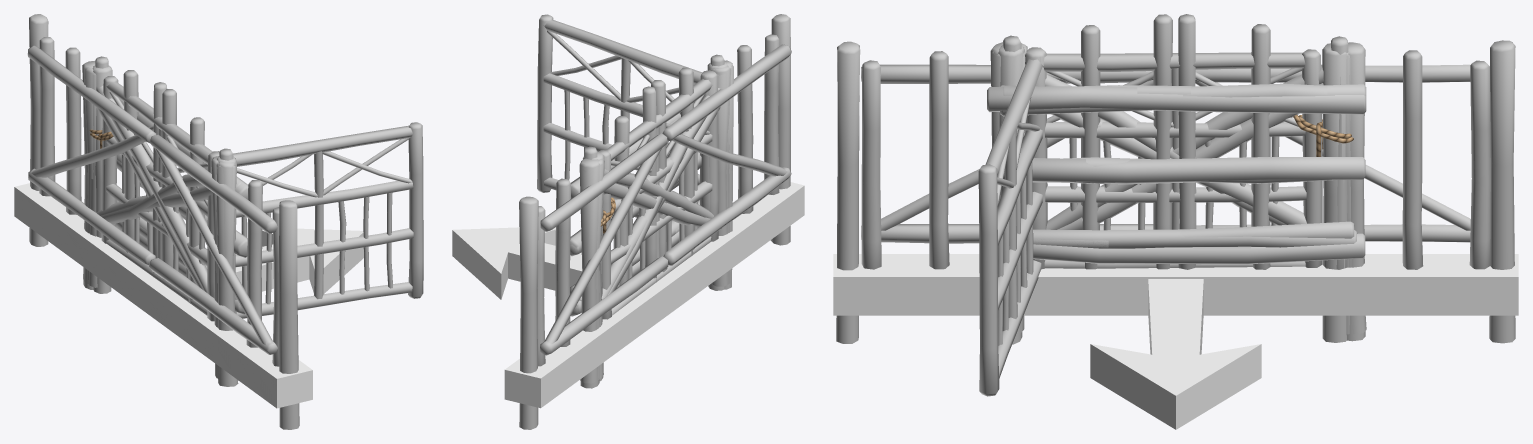
Rendered from fences.fbx.
3 views of the same model, side by side, from view 1: azimuth 30°, elevation 25°; view 2: azimuth 150°, elevation 25°; view 3: azimuth 270°, elevation 25° (orthographic). The views are drawn at different scales.
Visible parts, largest first — view 1: Right, Left, Trigger2, fence.001, posts.008, fence, LOD_012.6, Gate, arrow, Trigger1, Cylinder.013, posts.006 (+8 smaller); view 2: Trigger2, Right, Left, fence.001, posts.008, arrow, Trigger1, Gate, fence, LOD_012.6, posts.006, posts.003 (+8 smaller); view 3: Trigger2, Right, Left, Trigger1, arrow, fence.001, posts.008, fence, Cylinder.016, Cylinder.014, Gate, Cylinder.015 (+17 smaller).
Part boxes in pixels (box(x1,y1,x2,y2)): Right: box(27, 37, 167, 276); Left: box(149, 89, 279, 366); Trigger2: box(14, 182, 312, 408); fence.001: box(209, 122, 423, 318); posts.008: box(29, 14, 299, 429); fence: box(102, 76, 214, 321); LOD_012.6: box(237, 138, 412, 304); Gate: box(101, 76, 219, 321); arrow: box(235, 228, 363, 294); Trigger1: box(77, 231, 222, 360); Cylinder.013: box(96, 86, 207, 292); posts.006: box(82, 61, 238, 386); Trigger2: box(504, 180, 804, 408); Right: box(537, 86, 668, 366); Left: box(651, 34, 791, 271); fence.001: box(537, 14, 716, 217); posts.008: box(519, 14, 790, 429); arrow: box(452, 227, 582, 299); Trigger1: box(570, 230, 741, 361); Gate: box(602, 70, 717, 314); fence: box(598, 74, 718, 319); LOD_012.6: box(547, 30, 694, 180); posts.006: box(579, 60, 732, 388); posts.003: box(599, 74, 729, 378); Trigger2: box(833, 254, 1518, 315); Right: box(1178, 14, 1490, 269); Left: box(861, 14, 1172, 269); Trigger1: box(1023, 260, 1354, 315); arrow: box(1090, 279, 1261, 429); fence.001: box(978, 48, 1047, 396); posts.008: box(836, 40, 1515, 343); fence: box(1025, 49, 1322, 268); Cylinder.016: box(1003, 157, 1365, 184); Cylinder.014: box(987, 86, 1366, 114); Gate: box(1025, 47, 1322, 267); Cylinder.015: box(1033, 233, 1365, 264).
Size of the model in its own units: 419 by 217 by 202.
